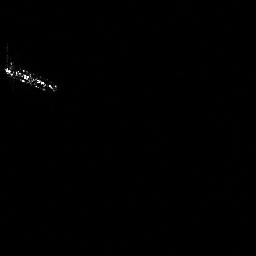ship: (1, 55, 60, 95)
